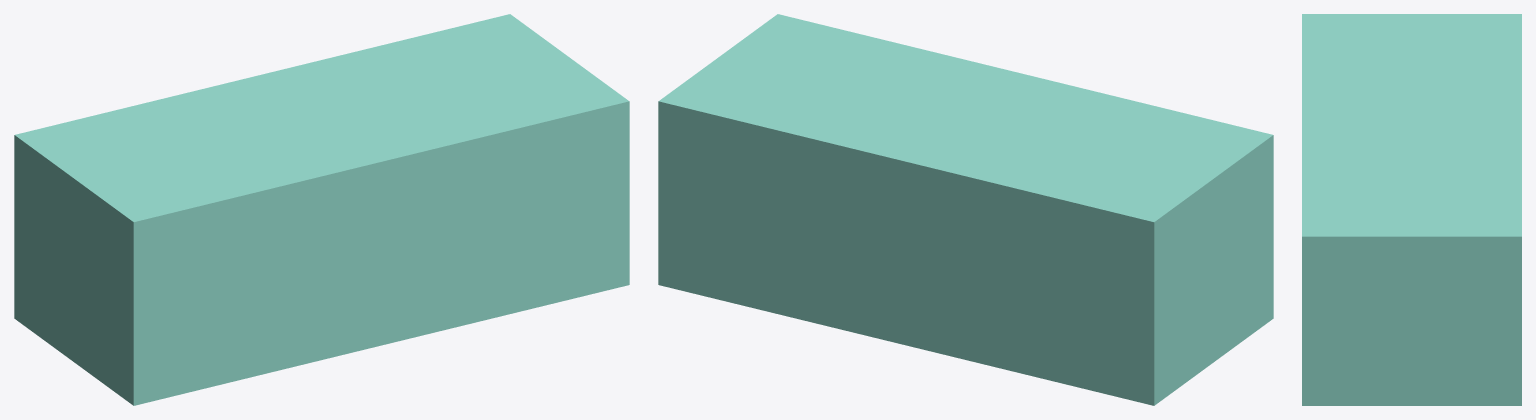
The model's file is burned_car_01.DAE.
The picture shows the model from 3 angles, left to right: view 1: azimuth 30°, elevation 25°; view 2: azimuth 150°, elevation 25°; view 3: azimuth 270°, elevation 25°; orthographic projection. The views are drawn at different scales.
Parts seen in each view (by area): view 1: bounds; view 2: bounds; view 3: bounds.
Part boxes in pixels (<box>): bounds: <box>14,14,629,405</box>; bounds: <box>658,14,1273,405</box>; bounds: <box>1302,14,1521,405</box>.
Bounding box in the file's own units: 695 × 290 × 246.
